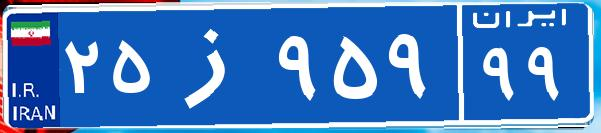2: (57, 26, 110, 107)
5: (330, 28, 385, 110), (110, 28, 158, 105)
9: (385, 28, 445, 110), (273, 28, 330, 110), (475, 38, 525, 113), (525, 38, 570, 115)
ز: (158, 15, 273, 115)
